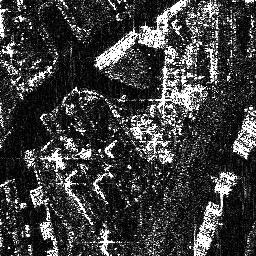ship: (95, 29, 137, 70)
